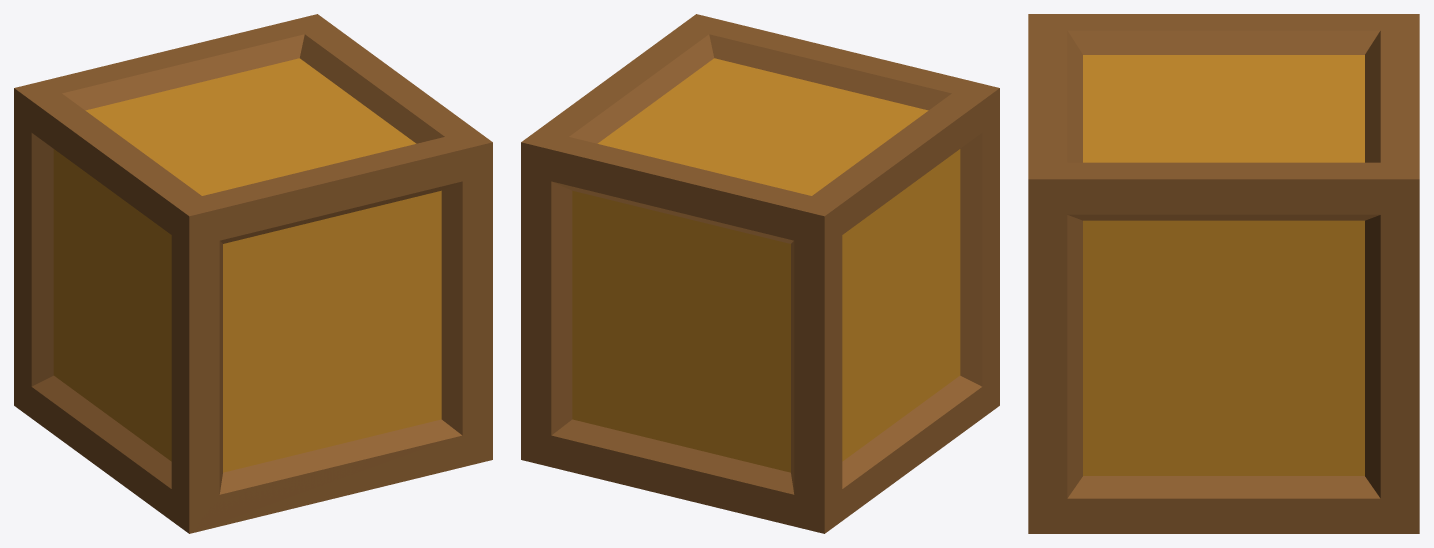
The model's file is box_breakable.fbx.
The picture shows the model from 3 angles, left to right: view 1: azimuth 30°, elevation 25°; view 2: azimuth 150°, elevation 25°; view 3: azimuth 270°, elevation 25°; orthographic projection. The views are drawn at different scales.
Visible parts, largest first — view 1: box, box_cell.001_cell, box_cell.001_cell.003, box_cell, box_cell.002; view 2: box, box_cell, box_cell.002, box_cell.001_cell.003; view 3: box, box_cell, box_cell.001_cell, box_cell.002.
Boxes of the visible parts, box(x1,y1,x2,y2) form: box: box(14, 14, 492, 533); box_cell.001_cell: box(265, 119, 492, 436); box_cell.001_cell.003: box(88, 144, 453, 532); box_cell: box(14, 14, 403, 268); box_cell.002: box(31, 233, 164, 464); box: box(521, 14, 999, 533); box_cell: box(521, 79, 895, 343); box_cell.002: box(521, 301, 984, 533); box_cell.001_cell.003: box(859, 89, 999, 416); box: box(1028, 14, 1419, 533); box_cell: box(1227, 14, 1419, 359); box_cell.001_cell: box(1028, 165, 1264, 533); box_cell.002: box(1088, 354, 1419, 533).
Size of the model in its own units: 200 by 200 by 200.
